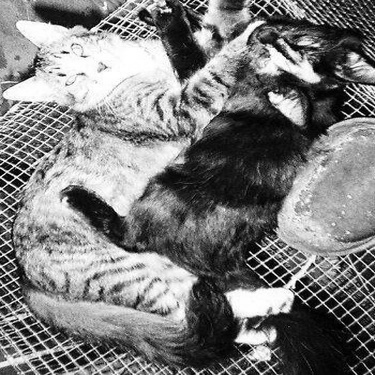cat: (60, 1, 363, 371), (1, 18, 295, 365)
